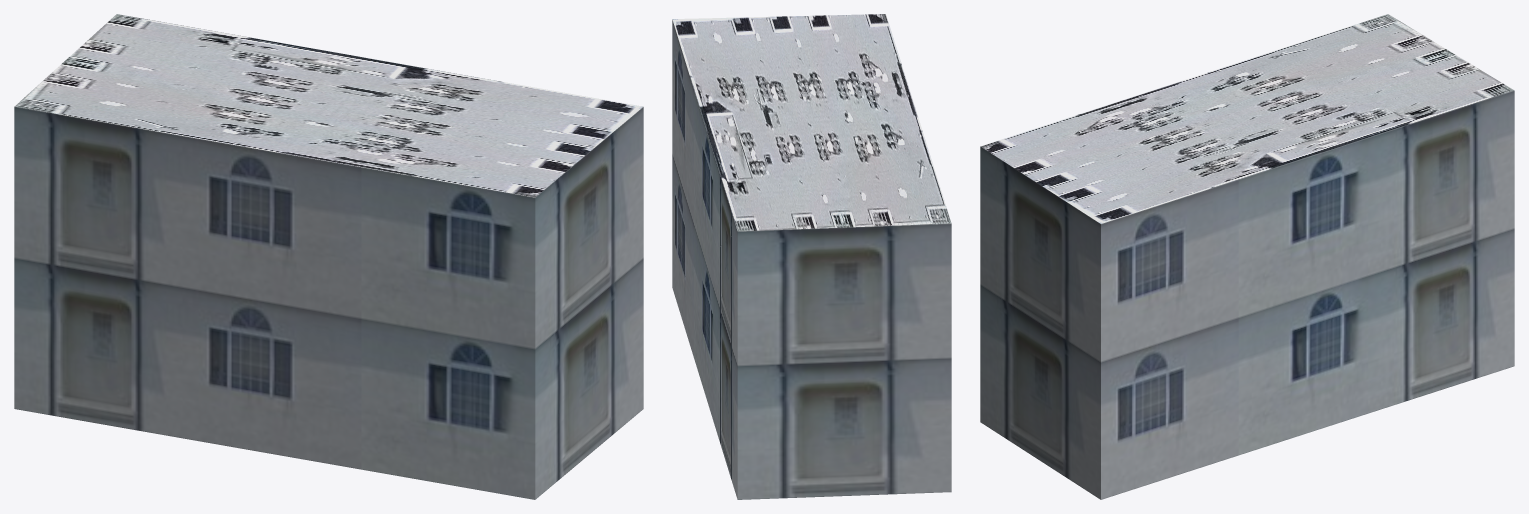
Rendered from ResTex__31.fbx.
3 renders of one model, left to right at view 1: azimuth 30°, elevation 25°; view 2: azimuth 150°, elevation 25°; view 3: azimuth 270°, elevation 25°, orthographic. The views are drawn at different scales.
Visible parts, largest first — view 1: CityEngineMaterial_17_m, CityEngineMaterial_8_m; view 2: CityEngineMaterial_17_m, CityEngineMaterial_8_m; view 3: CityEngineMaterial_17_m, CityEngineMaterial_8_m.
Part boxes in pixels (x1,y1,x2,y2): CityEngineMaterial_17_m: (14,106,643,499); CityEngineMaterial_8_m: (14,14,642,197); CityEngineMaterial_17_m: (672,20,951,499); CityEngineMaterial_8_m: (672,14,951,231); CityEngineMaterial_17_m: (980,90,1514,499); CityEngineMaterial_8_m: (981,14,1513,223).
Size of the model in its own units: 9.8 by 6 by 10.53.
Materials: 2 (2 with a texture image).
